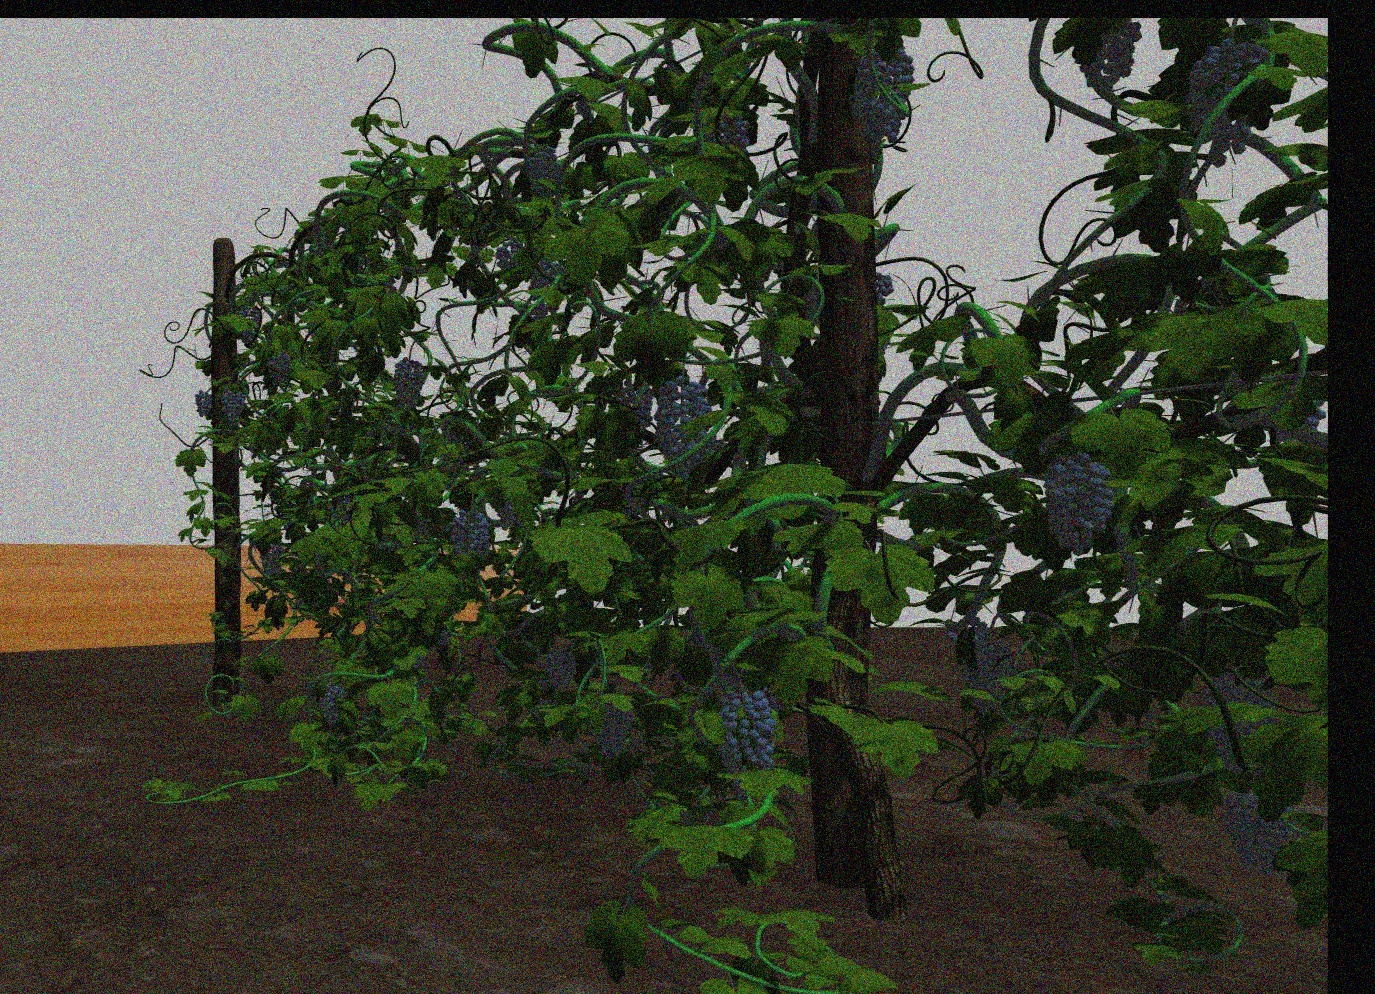grape: (1186, 35, 1265, 170), (1041, 453, 1116, 555), (1220, 786, 1295, 875), (851, 49, 913, 149), (653, 376, 711, 480), (1074, 21, 1141, 93), (720, 688, 777, 766), (957, 644, 1016, 714), (590, 700, 632, 760), (449, 506, 490, 561), (390, 356, 428, 412), (530, 145, 562, 198), (543, 645, 576, 692), (315, 683, 343, 729), (219, 386, 246, 428), (494, 236, 524, 270), (236, 303, 260, 344), (720, 115, 749, 148), (259, 545, 285, 578), (267, 351, 291, 385), (193, 388, 212, 416)
